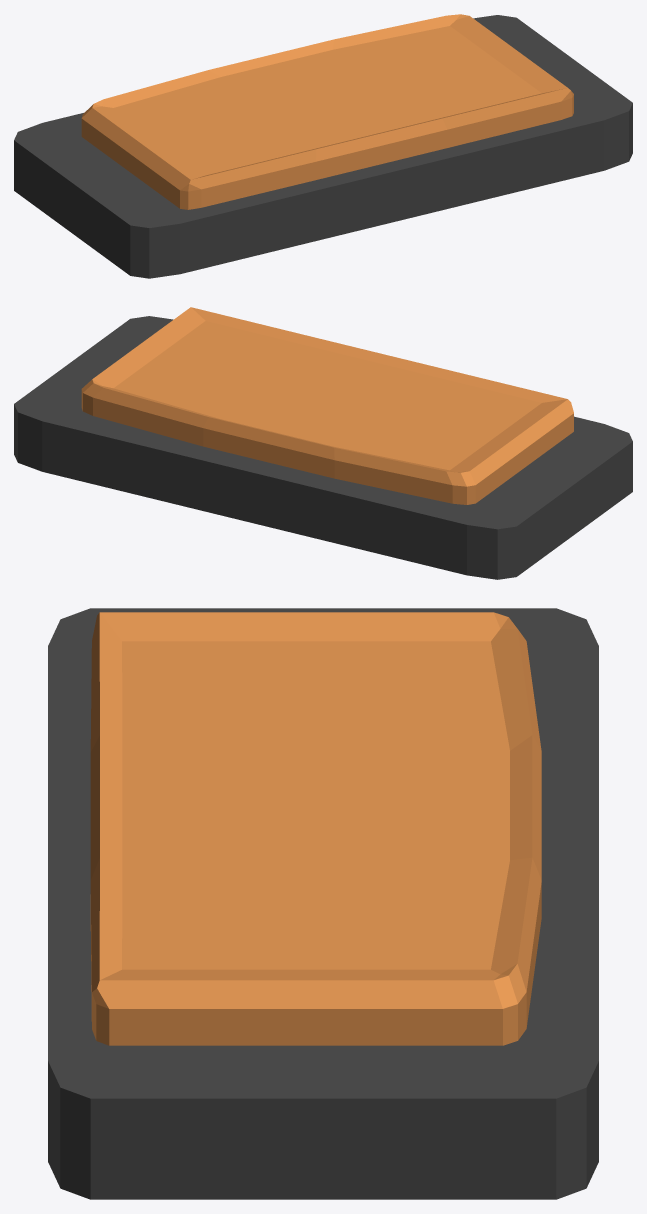
File: Key_Enter.fbx
The picture shows the model from 3 angles, top to bottom: view 1: azimuth 30°, elevation 25°; view 2: azimuth 150°, elevation 25°; view 3: azimuth 270°, elevation 25°; orthographic projection. The views are drawn at different scales.
Parts seen in each view (by area): view 1: Cube.004, Cube.005; view 2: Cube.004, Cube.005; view 3: Cube.004, Cube.005.
Boxes of the visible parts, x1,y1,x2,y2 form: Cube.004: (81,14,573,209); Cube.005: (14,15,632,278); Cube.004: (81,307,573,504); Cube.005: (14,316,632,579); Cube.004: (90,612,541,1045); Cube.005: (48,608,598,1199).
Size of the model in its own units: 163 by 24.56 by 77.53.
